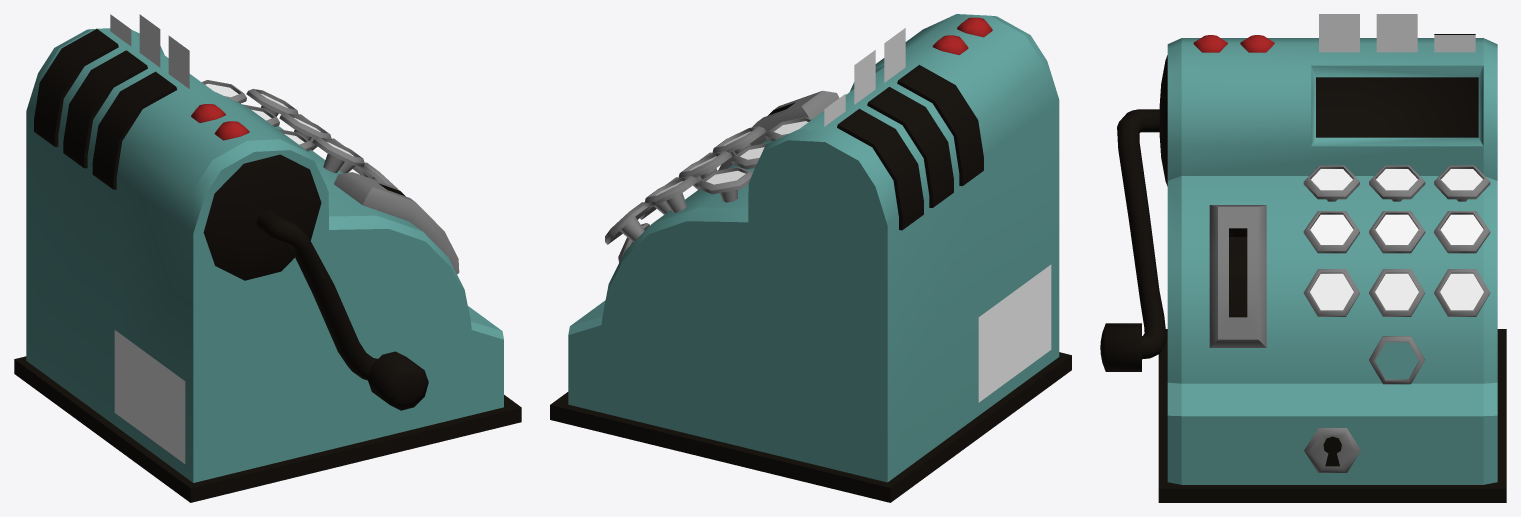
Rendered from GB_090_cash_register.glb.
The picture shows the model from 3 angles, left to right: view 1: azimuth 30°, elevation 25°; view 2: azimuth 150°, elevation 25°; view 3: azimuth 270°, elevation 25°; orthographic projection. The views are drawn at different scales.
Visible parts, largest first — view 1: cash register, black stripes, base, crank base, crank, blue label, kashes slot, 0, papers back, papers front, 1 2 3, red lights (+1 smaller); view 2: cash register, black stripes, base, blue label, 0, 1 2 3, papers back, kashes slot, 4 5 6, papers front, red lights; view 3: cash register, base, kashes slot, crank, 4 5 6, 0, 1 2 3, papers back, 7 8 9, key, papers front, red lights (+1 smaller).
Boxes of the visible parts, box(x1,y1,x2,y2) form: cash register: box(26, 28, 503, 482); black stripes: box(34, 29, 176, 189); base: box(14, 356, 521, 502); crank base: box(203, 154, 321, 280); crank: box(256, 210, 428, 410); blue label: box(114, 330, 185, 463); kashes slot: box(334, 172, 459, 274); 0: box(246, 89, 364, 172); papers back: box(110, 14, 189, 88); papers front: box(110, 14, 189, 87); 1 2 3: box(202, 80, 312, 151); red lights: box(191, 104, 249, 140); cash register: box(568, 14, 1059, 482); black stripes: box(837, 65, 983, 230); base: box(550, 352, 1071, 502); blue label: box(978, 264, 1051, 402); 0: box(644, 126, 765, 212); 1 2 3: box(697, 117, 811, 202); papers back: box(824, 28, 905, 126); kashes slot: box(718, 90, 839, 170); 4 5 6: box(605, 152, 712, 244); papers front: box(824, 29, 905, 124); red lights: box(932, 17, 992, 55); cash register: box(1167, 38, 1497, 484); base: box(1158, 329, 1506, 502); kashes slot: box(1209, 205, 1266, 347); crank: box(1100, 109, 1166, 371); 4 5 6: box(1303, 269, 1490, 316); 0: box(1303, 211, 1490, 253); 1 2 3: box(1303, 165, 1490, 201); papers back: box(1319, 14, 1475, 52); 7 8 9: box(1369, 336, 1424, 384); key: box(1304, 428, 1361, 472); papers front: box(1319, 14, 1475, 52); red lights: box(1193, 35, 1274, 52).
Bounding box in the file's own units: 0.6963 × 0.75 × 0.75.
